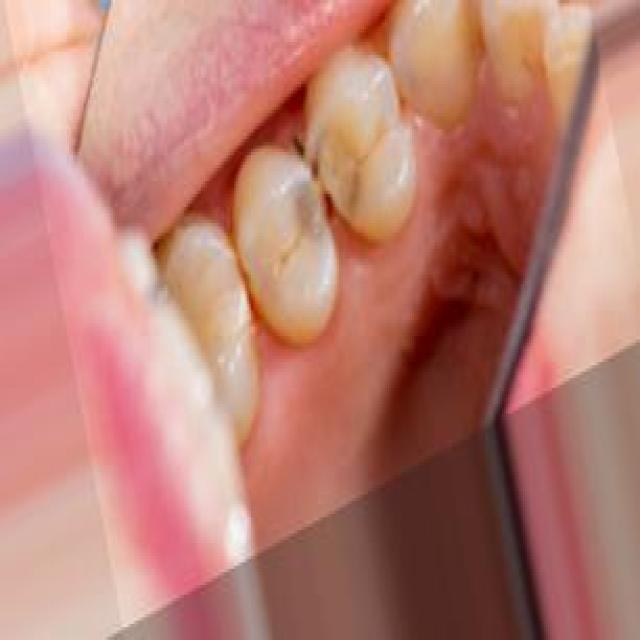caries: (280, 124, 373, 232)
